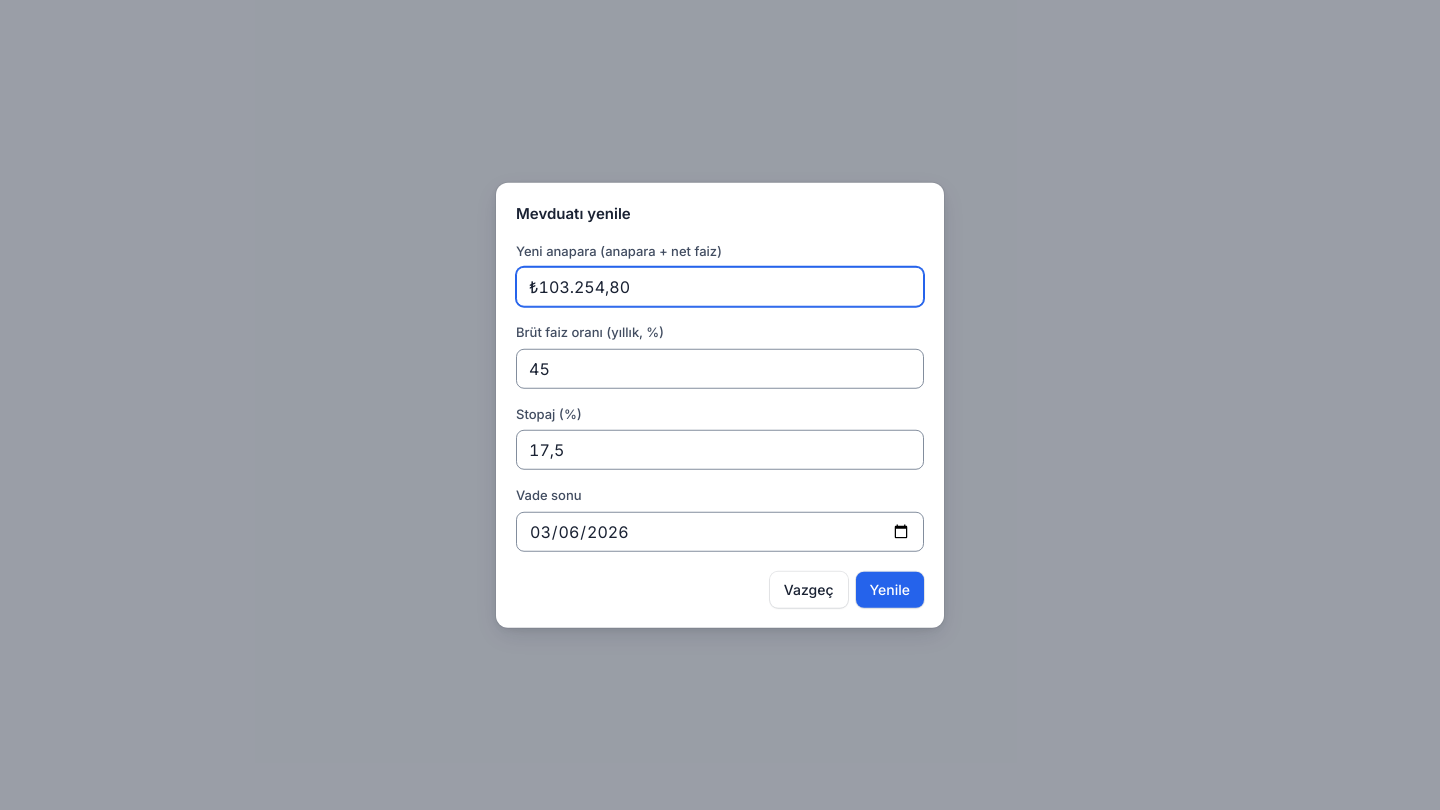
Scenario: shows the 409 message inline and stays open
The width and height of the screenshot is (1440, 810).
Replace the text in the field labelled "Brüt faiz oranı (yıllık, %)" with "40": [720, 368] box [516,348,924,388]
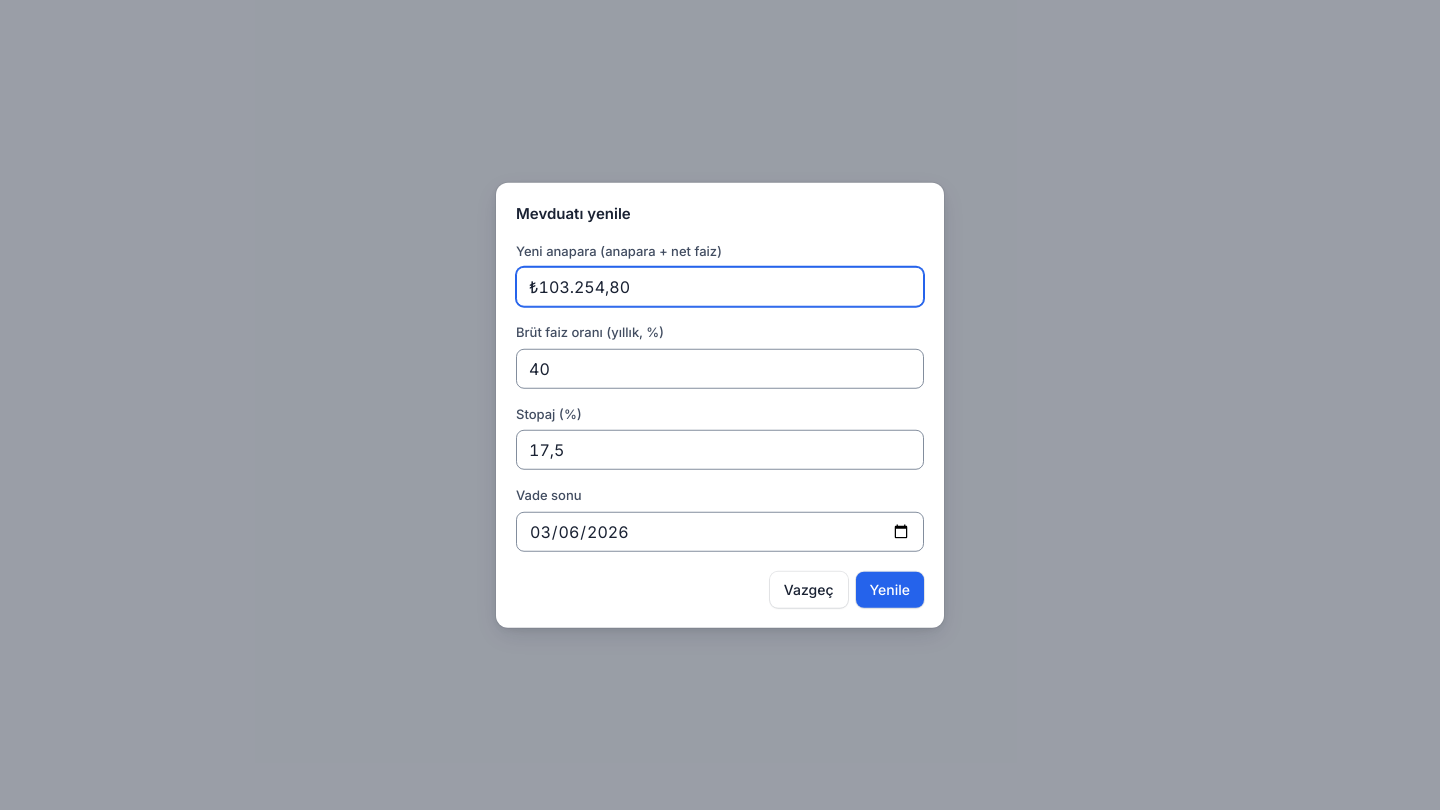
Replace the text in the field labelled "Stopaj (%)" with "15": [720, 450] box [516,430,924,470]
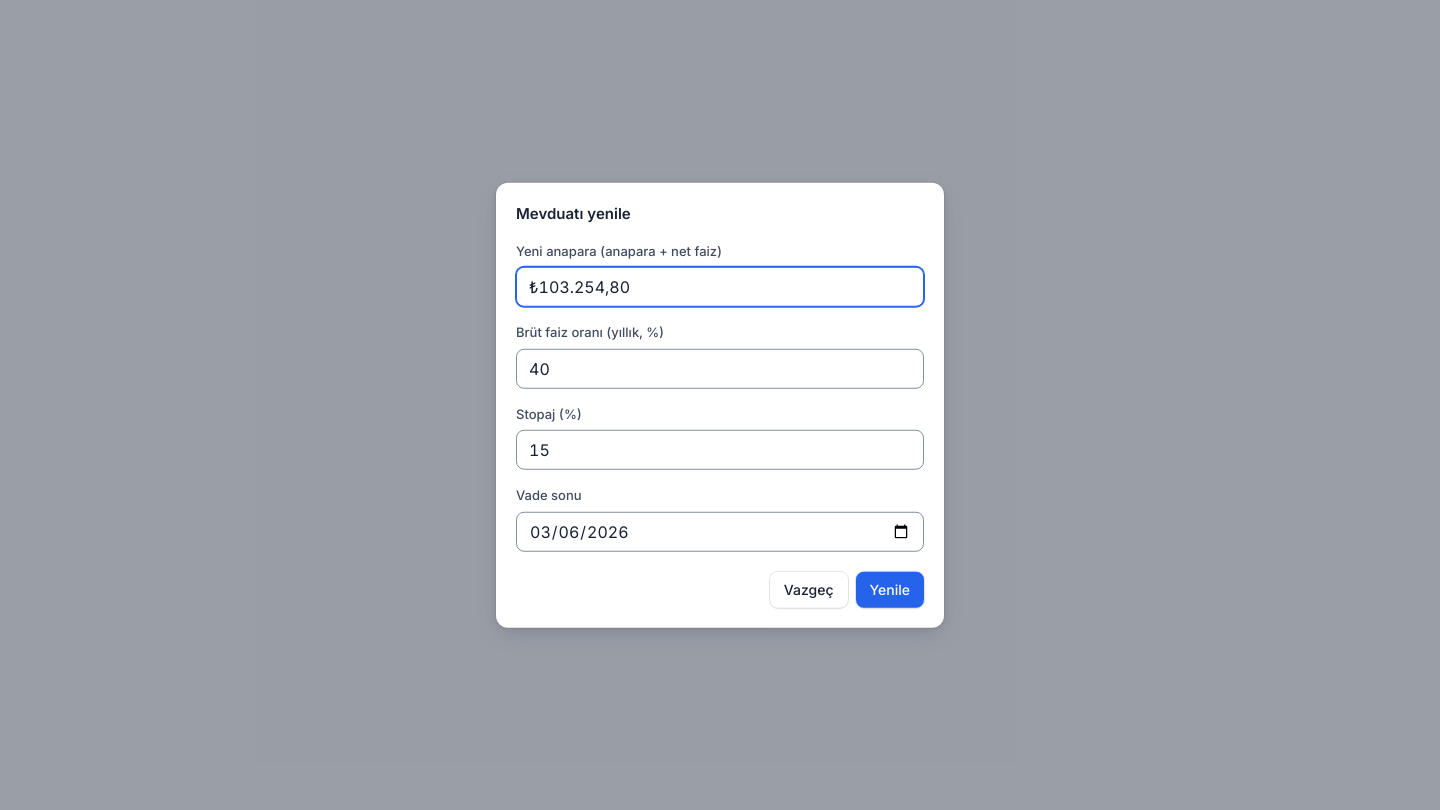
In the date field labelled "Vade sonu": [720, 531] box [516,511,924,551], type "2026-06-02"
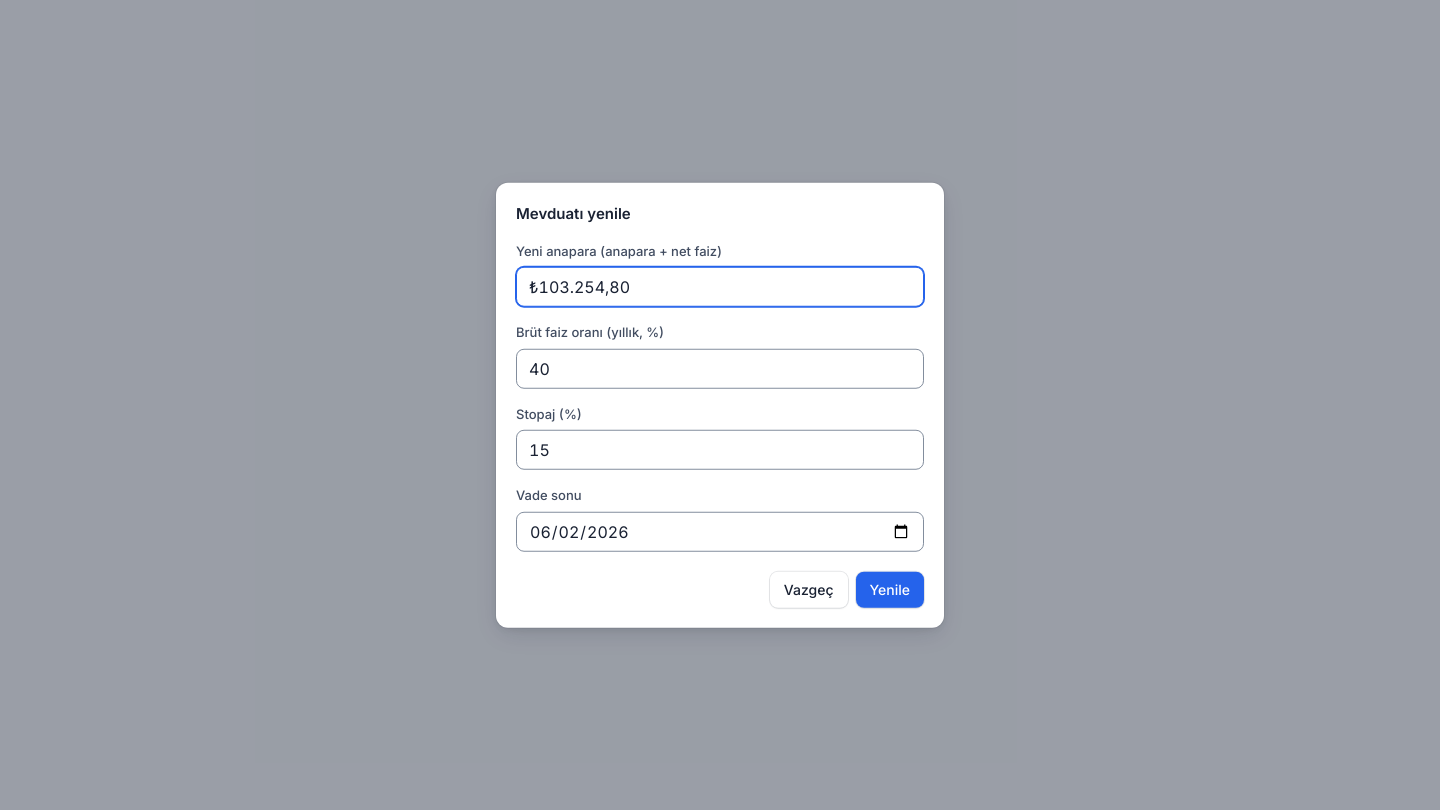
Click the button "Yenile": [890, 589] box [856,571,924,607]
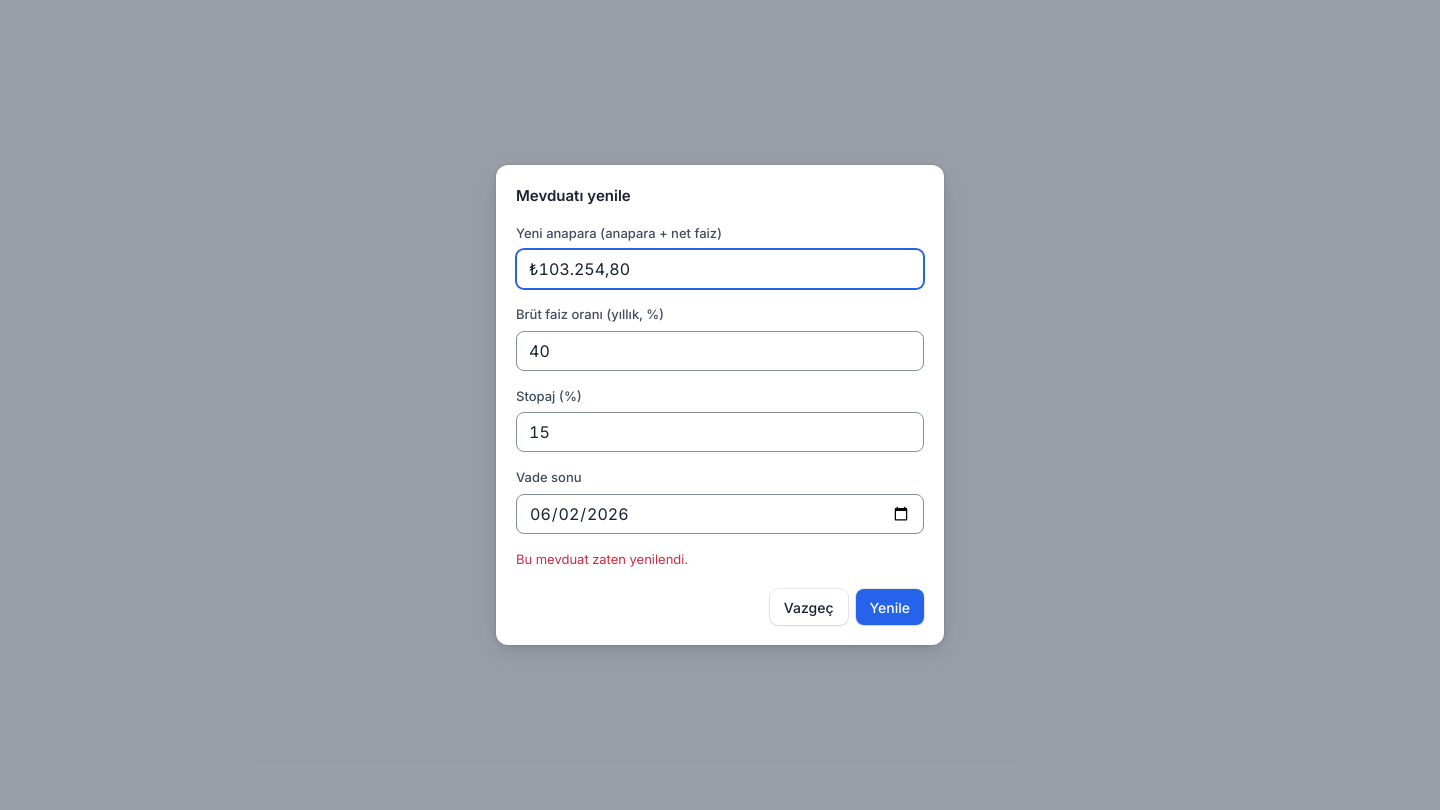
Result: the message reads "Bu mevduat zaten yenilendi." at [516,550,688,566]
